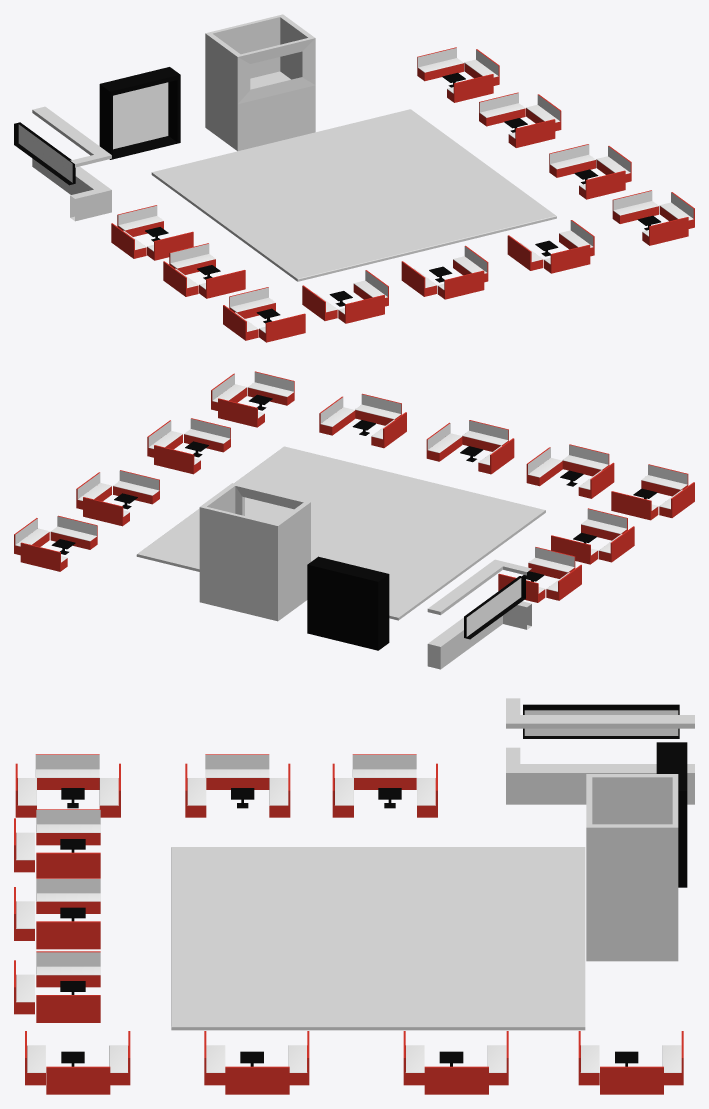
The model's file is Disco2.glb.
3 renders of one model, top to bottom at view 1: azimuth 30°, elevation 25°; view 2: azimuth 150°, elevation 25°; view 3: azimuth 270°, elevation 25°, orthographic. The views are drawn at different scales.
Visible parts, largest first — view 1: Plane.001, sofa, Cube, Plane.002, Cube.010, Plane, Cube.011; view 2: sofa, Plane.001, Cube, Plane.002, Cube.010, Plane, Cube.011; view 3: Plane.001, sofa, Cube, Cube.010, Plane, Cube.011, Plane.002.
Part boxes in pixels (box(x1,y1,x2,y2)): Plane.001: box(151, 109, 556, 281); sofa: box(111, 47, 694, 342); Cube: box(205, 14, 315, 151); Plane.002: box(99, 67, 180, 159); Cube.010: box(32, 158, 111, 221); Plane: box(14, 122, 75, 185); Cube.011: box(32, 106, 111, 167); sofa: box(14, 371, 694, 602); Plane.001: box(136, 446, 545, 620); Cube: box(199, 483, 310, 621); Plane.002: box(307, 556, 389, 650); Cube.010: box(427, 601, 531, 669); Plane: box(464, 576, 525, 639); Cube.011: box(427, 559, 531, 615); Plane.001: box(171, 847, 585, 1030); sofa: box(14, 754, 683, 1094); Cube: box(586, 774, 678, 961); Cube.010: box(506, 747, 694, 804); Plane: box(523, 704, 679, 738); Cube.011: box(506, 698, 694, 728); Plane.002: box(656, 742, 687, 887).
Size of the model in its own units: 5.94 by 1.2 by 5.4.
